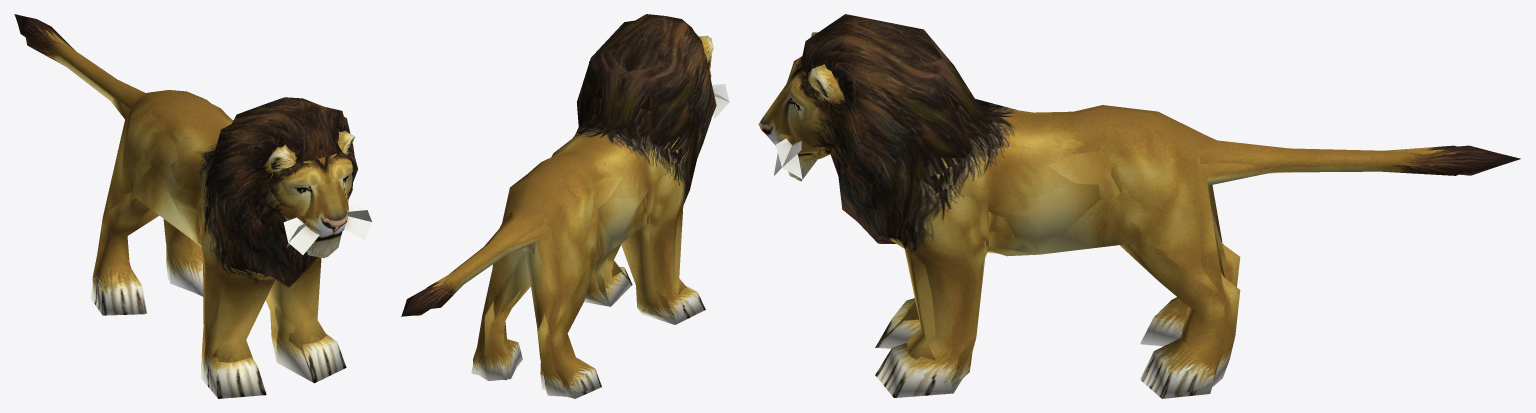
Rendered from Lion.obj.
The picture shows the model from 3 angles, left to right: view 1: azimuth 30°, elevation 25°; view 2: azimuth 150°, elevation 25°; view 3: azimuth 270°, elevation 25°; orthographic projection. The views are drawn at different scales.
Visible parts, largest first — view 1: Lion; view 2: Lion; view 3: Lion.
Boxes of the visible parts, x1,y1,x2,y2 form: Lion: [14, 14, 372, 398]; Lion: [401, 14, 729, 398]; Lion: [758, 14, 1520, 398].
Bounding box in the file's own units: 1.01 × 2.14 × 4.36.
Materials: 7 (7 with a texture image).
